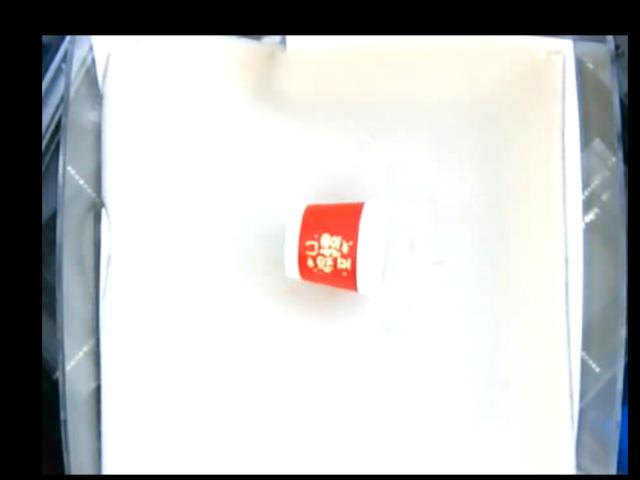Cup: (281, 198, 388, 293)
